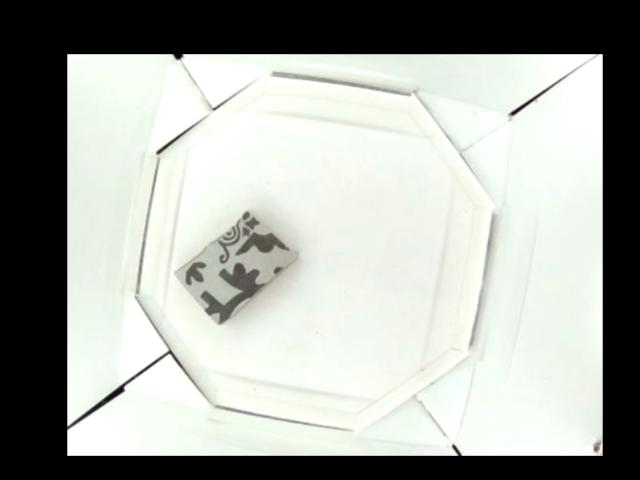China: (171, 208, 299, 321)
